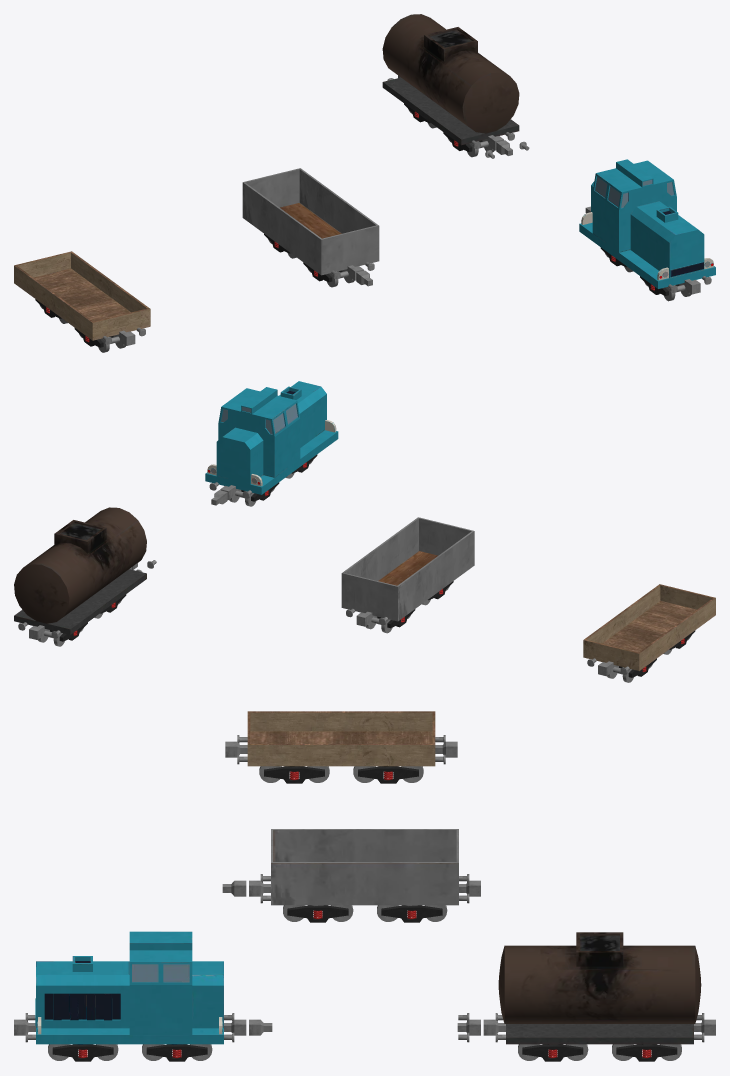
The model's file is trains.a2b84498a2.glb.
3 renders of one model, top to bottom at view 1: azimuth 30°, elevation 25°; view 2: azimuth 150°, elevation 25°; view 3: azimuth 270°, elevation 25°, orthographic. The views are drawn at different scales.
Parts seen in each view (by area): view 1: box|FreightWag_3_FreightWagon_3_0, diesel|Disel_1_Disel_1_0, gondola|FreightWag_1_FreightWagon_1_0, flat|FreightWag_2_FreightWagon_2_0; view 2: box|FreightWag_3_FreightWagon_3_0, diesel|Disel_1_Disel_1_0, gondola|FreightWag_1_FreightWagon_1_0, flat|FreightWag_2_FreightWagon_2_0; view 3: box|FreightWag_3_FreightWagon_3_0, diesel|Disel_1_Disel_1_0, gondola|FreightWag_1_FreightWagon_1_0, flat|FreightWag_2_FreightWagon_2_0, box|WheelsModule_1.017_Wheels_0, diesel|WheelsModule_1.013_Wheels_0, box|WheelsModule_1.016_Wheels_0, diesel|WheelsModule_1.012_Wheels_0, gondola|WheelsModule_1.003_Wheels_0, gondola|WheelsModule_1.002_Wheels_0, flat|WheelsModule_1.015_Wheels_0, flat|WheelsModule_1.014_Wheels_0.
Boxes of the visible parts, bbox=[...] form: box|FreightWag_3_FreightWagon_3_0: bbox=[382, 14, 519, 145]; diesel|Disel_1_Disel_1_0: bbox=[579, 159, 715, 288]; gondola|FreightWag_1_FreightWagon_1_0: bbox=[242, 168, 379, 275]; flat|FreightWag_2_FreightWagon_2_0: bbox=[14, 251, 150, 340]; box|FreightWag_3_FreightWagon_3_0: bbox=[14, 507, 146, 634]; diesel|Disel_1_Disel_1_0: bbox=[205, 381, 338, 494]; gondola|FreightWag_1_FreightWagon_1_0: bbox=[341, 517, 474, 621]; flat|FreightWag_2_FreightWagon_2_0: bbox=[583, 584, 715, 670]; box|FreightWag_3_FreightWagon_3_0: bbox=[498, 932, 701, 1044]; diesel|Disel_1_Disel_1_0: bbox=[35, 931, 223, 1044]; gondola|FreightWag_1_FreightWagon_1_0: bbox=[271, 829, 458, 905]; flat|FreightWag_2_FreightWagon_2_0: bbox=[247, 711, 435, 766]; box|WheelsModule_1.017_Wheels_0: bbox=[616, 1044, 677, 1061]; diesel|WheelsModule_1.013_Wheels_0: bbox=[52, 1044, 113, 1061]; box|WheelsModule_1.016_Wheels_0: bbox=[522, 1044, 583, 1061]; diesel|WheelsModule_1.012_Wheels_0: bbox=[146, 1044, 207, 1061]; gondola|WheelsModule_1.003_Wheels_0: bbox=[381, 905, 442, 922]; gondola|WheelsModule_1.002_Wheels_0: bbox=[287, 905, 348, 922]; flat|WheelsModule_1.015_Wheels_0: bbox=[264, 766, 324, 783]; flat|WheelsModule_1.014_Wheels_0: bbox=[358, 766, 418, 783].
Bounding box in the file's own units: 3140 × 543 × 2988.
Materials: 6 (6 with a texture image).
